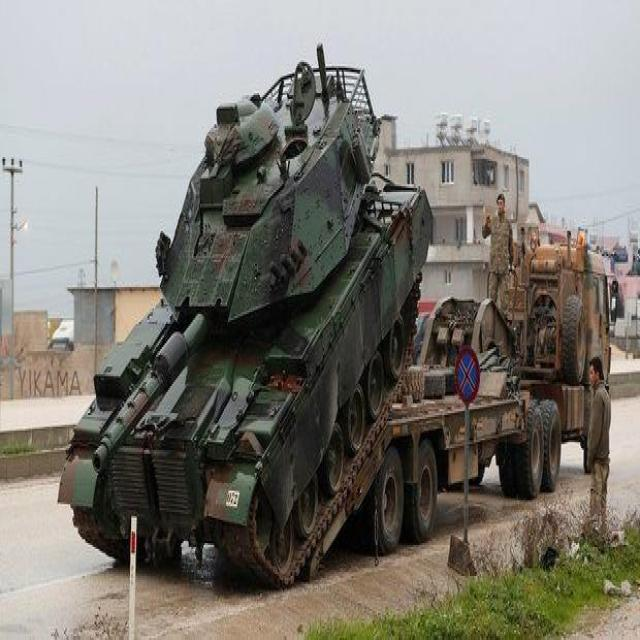Tanks: (36, 51, 436, 568)
